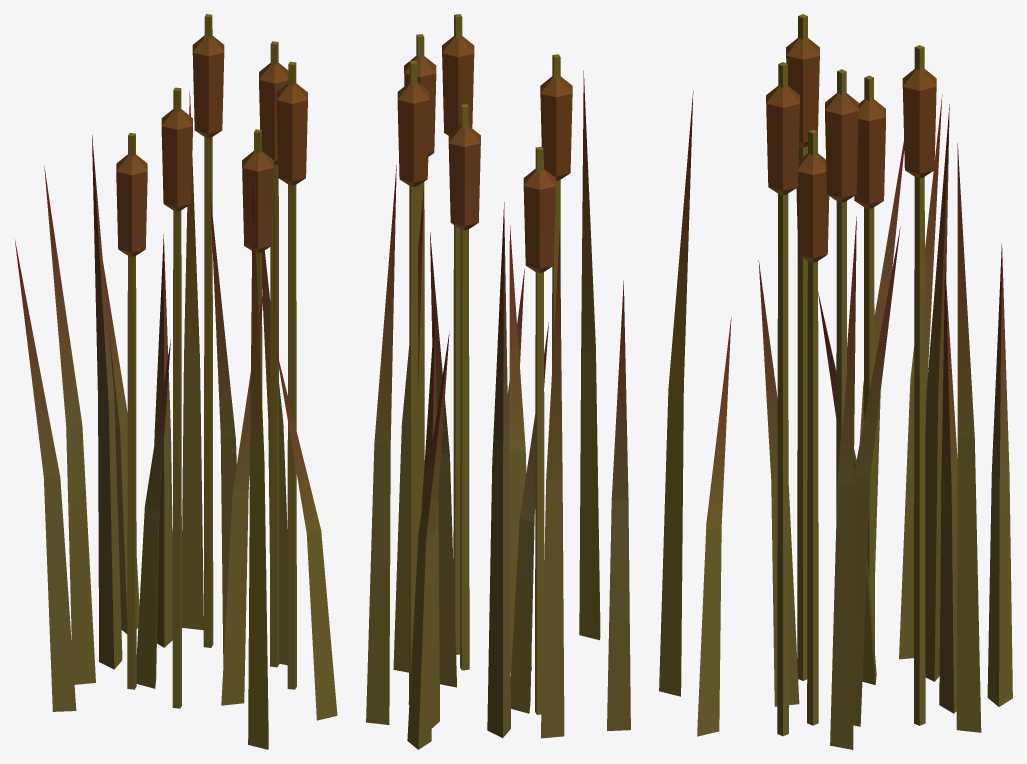
File: Cattails_01.glb
3 views of the same model, side by side, from view 1: azimuth 30°, elevation 25°; view 2: azimuth 150°, elevation 25°; view 3: azimuth 270°, elevation 25° (orthographic). The views are drawn at different scales.
Parts seen in each view (by area): view 1: Cattails_01; view 2: Cattails_01; view 3: Cattails_01.
Boxes of the visible parts, x1,y1,x2,y2 form: Cattails_01: (14, 14, 337, 749); Cattails_01: (366, 14, 630, 749); Cattails_01: (659, 14, 1012, 749).
Size of the model in its own units: 0.6354 by 1.53 by 0.724.
